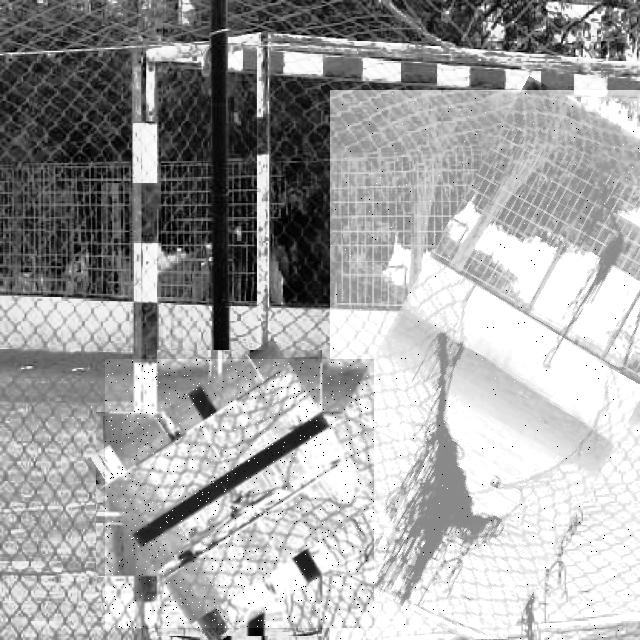anomaly-fence: (330, 90, 640, 640), (105, 359, 374, 628)
